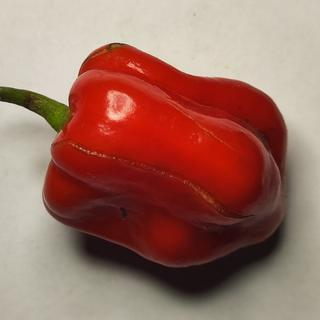Defect: (113, 202, 136, 221)
striped: (40, 135, 262, 223), (160, 98, 234, 152), (78, 40, 135, 67)
